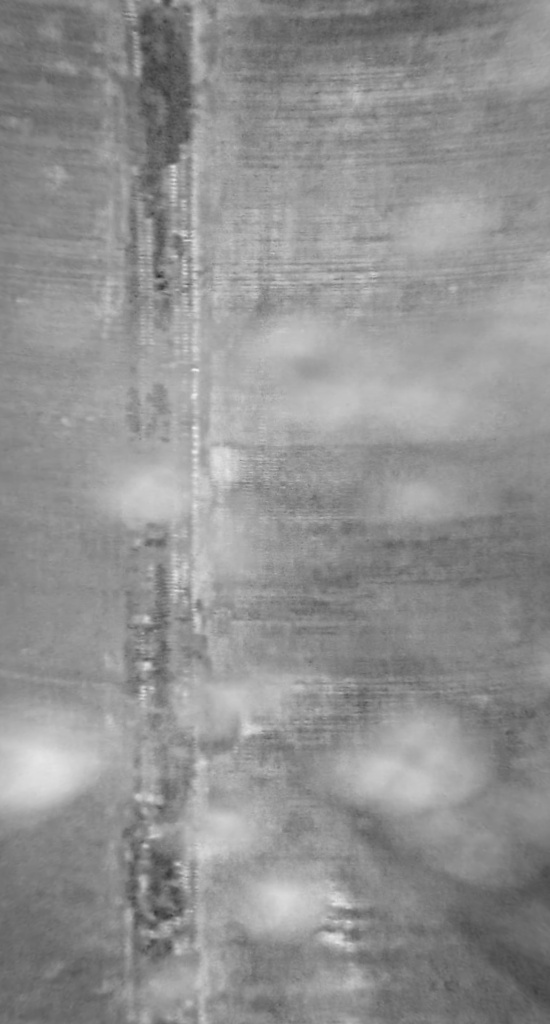splice: (118, 1, 215, 1021)
